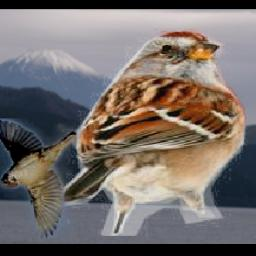Sparrow: (54, 28, 248, 236), (0, 119, 77, 239)
